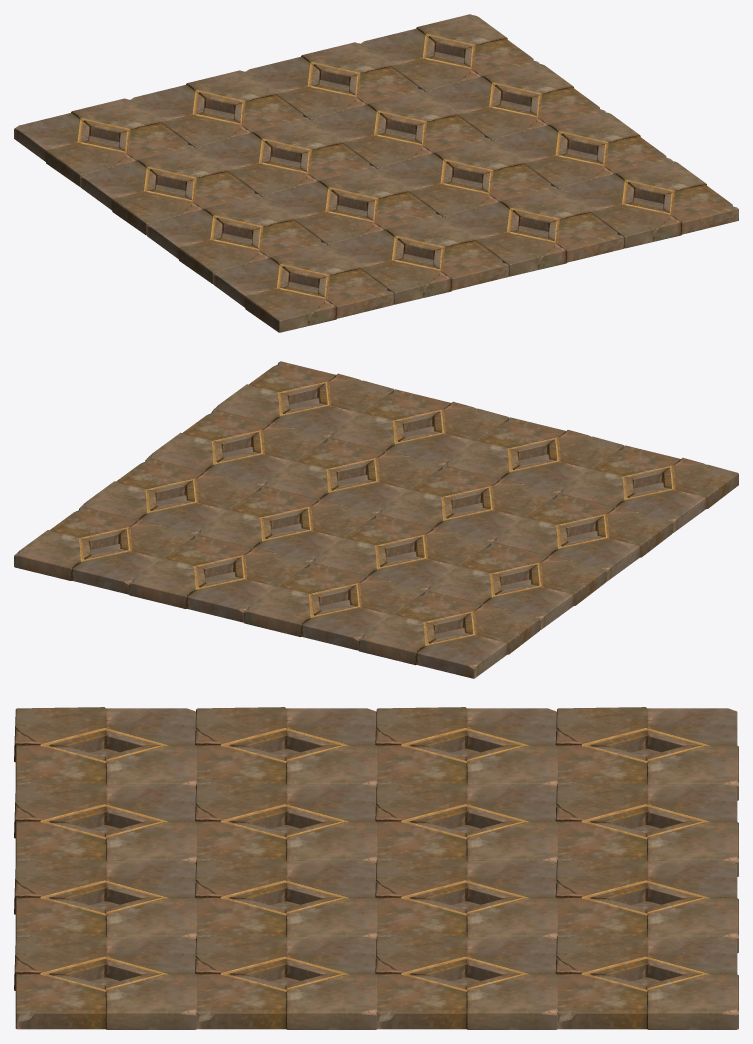
3 views of the same model, one above another, from view 1: azimuth 30°, elevation 25°; view 2: azimuth 150°, elevation 25°; view 3: azimuth 270°, elevation 25° (orthographic). The views are drawn at different scales.
Parts seen in each view (by area): view 1: SM_SM_Fire_Jet_Floor_Trap_16_01_LOD0; view 2: SM_SM_Fire_Jet_Floor_Trap_16_01_LOD0; view 3: SM_SM_Fire_Jet_Floor_Trap_16_01_LOD0.
Boxes of the visible parts, x1,y1,x2,y2 form: SM_SM_Fire_Jet_Floor_Trap_16_01_LOD0: (14, 14, 738, 332); SM_SM_Fire_Jet_Floor_Trap_16_01_LOD0: (14, 361, 738, 678); SM_SM_Fire_Jet_Floor_Trap_16_01_LOD0: (14, 707, 738, 1029).
Bounding box in the file's own units: 4.02 × 0.1104 × 4.02.
Materials: 2 (2 with a texture image).
